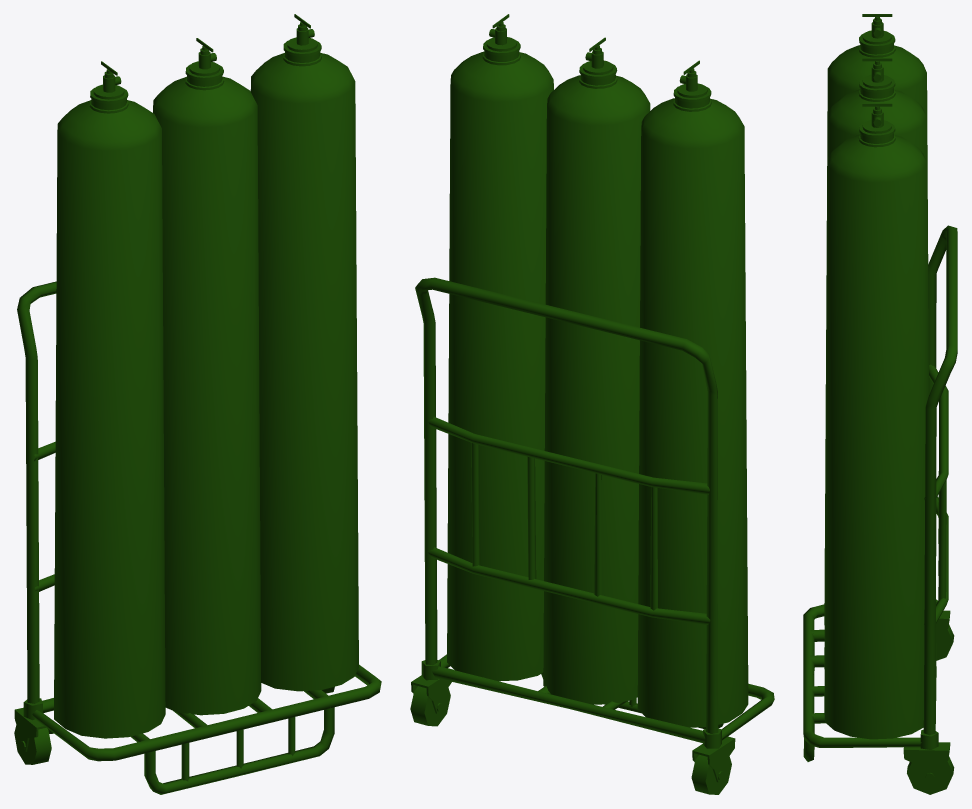
File: Trolley_Cylinder01.fbx
3 renders of one model, left to right at view 1: azimuth 30°, elevation 25°; view 2: azimuth 150°, elevation 25°; view 3: azimuth 270°, elevation 25°, orthographic. The views are drawn at different scales.
Parts seen in each view (by area): view 1: Cylinder_L2, Cylinder_L1, Cylinder_L3, Trolleys01, Trolleys01_W2; view 2: Cylinder_L2, Cylinder_L1, Cylinder_L3, Trolleys01, Trolleys01_W2, Trolleys01_W1; view 3: Cylinder_L1, Trolleys01, Cylinder_L3, Cylinder_L2, Trolleys01_W1, Trolleys01_W2.
Boxes of the visible parts, bbox=[...] form: Cylinder_L2: bbox=[54, 61, 165, 738]; Cylinder_L1: bbox=[250, 14, 358, 691]; Cylinder_L3: bbox=[153, 38, 261, 715]; Trolleys01: bbox=[17, 281, 381, 794]; Trolleys01_W2: bbox=[14, 698, 53, 764]; Cylinder_L2: bbox=[637, 60, 748, 727]; Cylinder_L1: bbox=[447, 14, 553, 681]; Cylinder_L3: bbox=[543, 37, 650, 704]; Trolleys01: bbox=[415, 277, 774, 743]; Trolleys01_W2: bbox=[691, 728, 735, 794]; Trolleys01_W1: bbox=[410, 660, 453, 726]; Cylinder_L1: bbox=[824, 103, 928, 739]; Trolleys01: bbox=[803, 225, 957, 761]; Cylinder_L3: bbox=[824, 58, 928, 668]; Cylinder_L2: bbox=[824, 14, 928, 624]; Trolleys01_W1: bbox=[903, 729, 954, 794]; Trolleys01_W2: bbox=[936, 599, 954, 660].
Bounding box in the file's own units: 0.2873 × 0.6321 × 0.1325.
